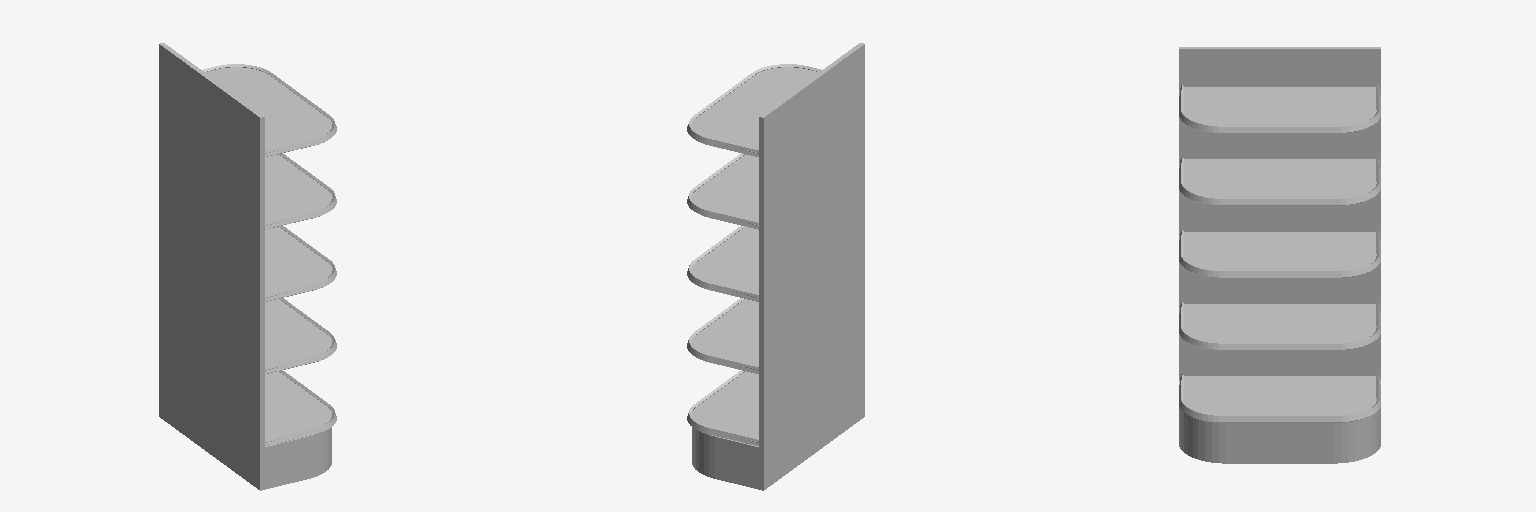
The model's file is Shelf_RoundCap_5.obj.
3 renders of one model, left to right at view 1: azimuth 30°, elevation 25°; view 2: azimuth 150°, elevation 25°; view 3: azimuth 270°, elevation 25°, orthographic.
Visible parts, largest first — view 1: Shelf_RoundCap_5_Cube.031; view 2: Shelf_RoundCap_5_Cube.031; view 3: Shelf_RoundCap_5_Cube.031.
Boxes of the visible parts, box(x1,y1,x2,y2) form: Shelf_RoundCap_5_Cube.031: box(159, 43, 336, 490); Shelf_RoundCap_5_Cube.031: box(687, 43, 864, 490); Shelf_RoundCap_5_Cube.031: box(1179, 47, 1380, 463).
Size of the model in its own units: 1.04 by 4 by 1.97.